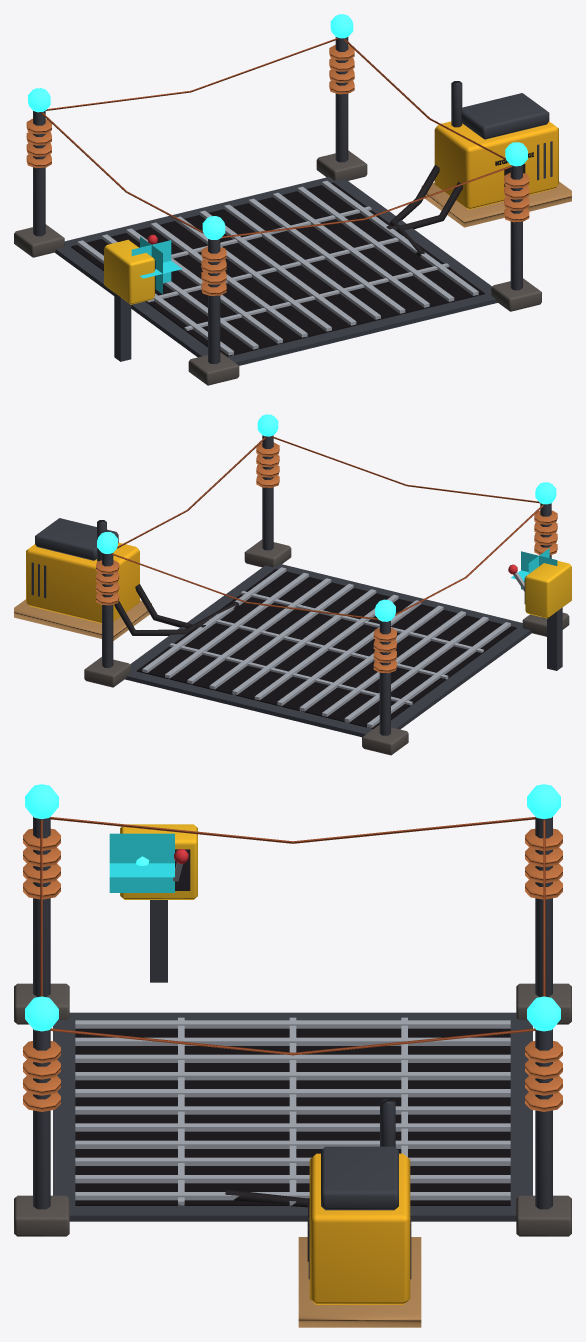
The model's file is city_trap_shock.glb.
The picture shows the model from 3 angles, top to bottom: view 1: azimuth 30°, elevation 25°; view 2: azimuth 150°, elevation 25°; view 3: azimuth 270°, elevation 25°; orthographic projection. The views are drawn at different scales.
Parts seen in each view (by area): view 1: TrapShock; view 2: TrapShock; view 3: TrapShock.
Boxes of the visible parts, <box> form: TrapShock: <box>14,14,571,385</box>; TrapShock: <box>14,414,571,755</box>; TrapShock: <box>14,784,571,1327</box>.
Size of the model in its own units: 7.5 by 2.26 by 5.
